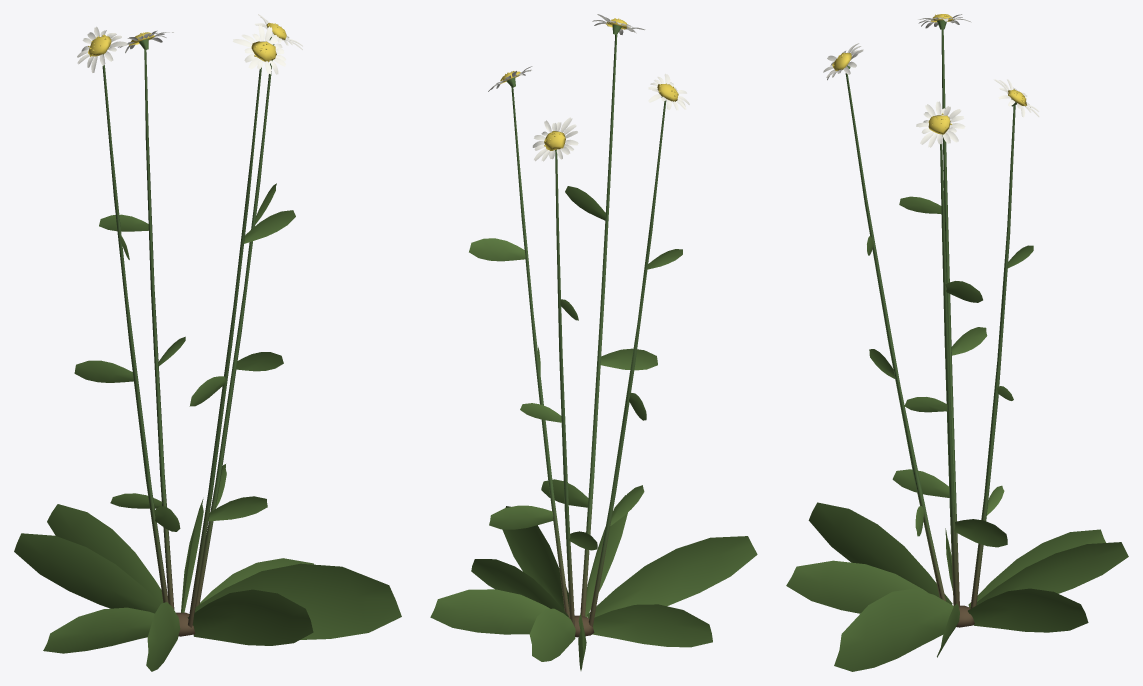
File: Daisy_lod1.glb
3 renders of one model, left to right at view 1: azimuth 30°, elevation 25°; view 2: azimuth 150°, elevation 25°; view 3: azimuth 270°, elevation 25°, orthographic. The views are drawn at different scales.
Parts seen in each view (by area): view 1: Plant_LOD1; view 2: Plant_LOD1; view 3: Plant_LOD1.
Boxes of the visible parts, x1=… form: Plant_LOD1: x1=14, y1=14, x2=401, y2=671; Plant_LOD1: x1=430, y1=14, x2=757, y2=670; Plant_LOD1: x1=786, y1=14, x2=1128, y2=671.
Size of the model in its own units: 0.328 by 0.6787 by 0.3587.
